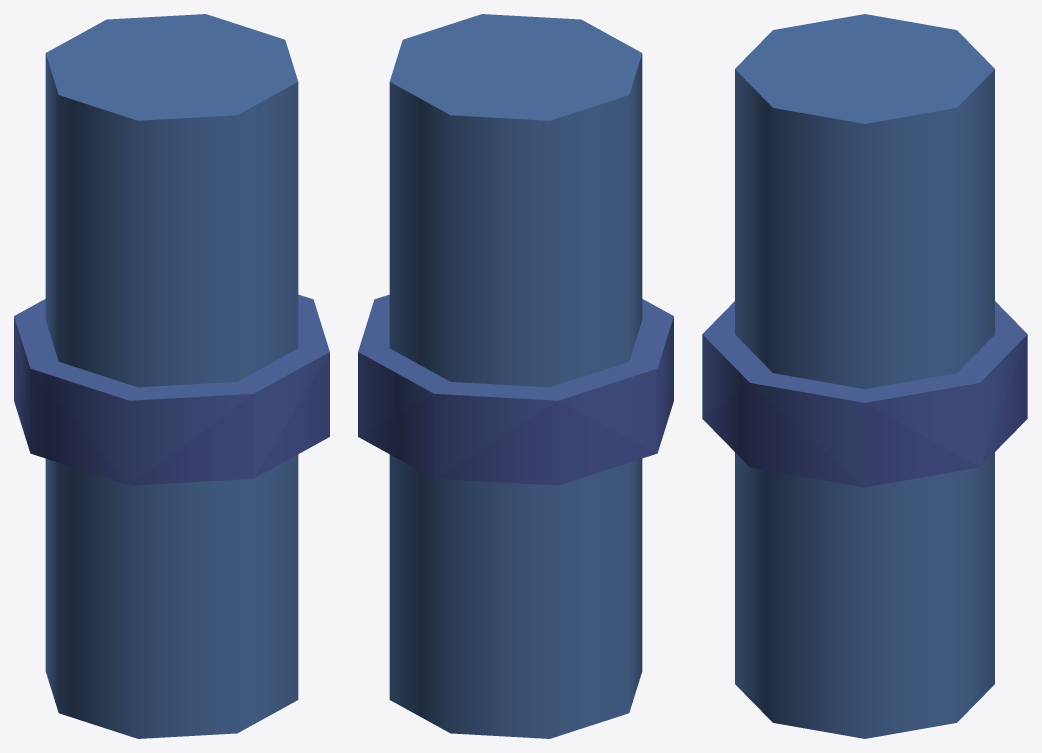
Rendered from coaster_support_large.glb.
3 renders of one model, left to right at view 1: azimuth 30°, elevation 25°; view 2: azimuth 150°, elevation 25°; view 3: azimuth 270°, elevation 25°, orthographic.
Parts seen in each view (by area): view 1: coaster_support_large; view 2: coaster_support_large; view 3: coaster_support_large.
Boxes of the visible parts, x1,y1,x2,y2 form: coaster_support_large: [14, 14, 329, 738]; coaster_support_large: [358, 14, 673, 738]; coaster_support_large: [702, 14, 1027, 738].
Bounding box in the file's own units: 0.4794 × 1 × 0.4794.
